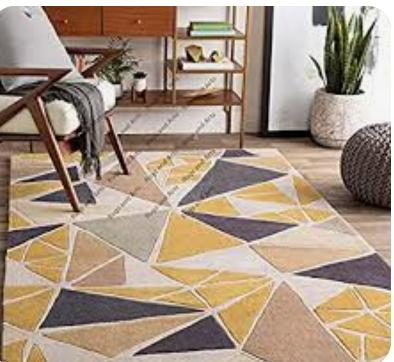carpet: (3, 149, 391, 362)
